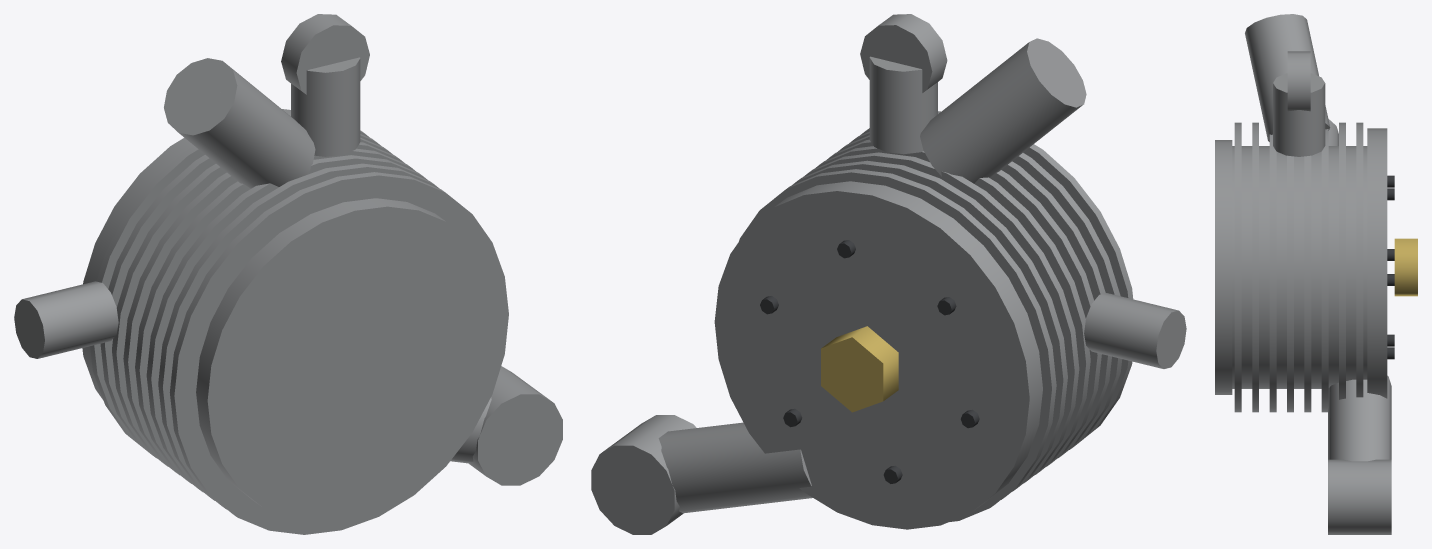
File: air-pump.glb
The picture shows the model from 3 angles, left to right: view 1: azimuth 30°, elevation 25°; view 2: azimuth 150°, elevation 25°; view 3: azimuth 270°, elevation 25°; orthographic projection. The views are drawn at different scales.
Visible parts, largest first — view 1: air-pump:castAlu; view 2: air-pump:castAlu, air-pump:yellowZinc, air-pump:darkSteel; view 3: air-pump:castAlu, air-pump:yellowZinc, air-pump:darkSteel.
Part boxes in pixels (bbox=[...]): air-pump:castAlu: bbox=[14, 14, 562, 534]; air-pump:castAlu: bbox=[591, 14, 1186, 534]; air-pump:yellowZinc: bbox=[821, 326, 898, 412]; air-pump:darkSteel: bbox=[760, 240, 979, 483]; air-pump:castAlu: bbox=[1215, 14, 1391, 534]; air-pump:yellowZinc: bbox=[1394, 238, 1417, 296]; air-pump:darkSteel: bbox=[1387, 175, 1394, 359].
Size of the model in its own units: 162 by 152 by 70.
